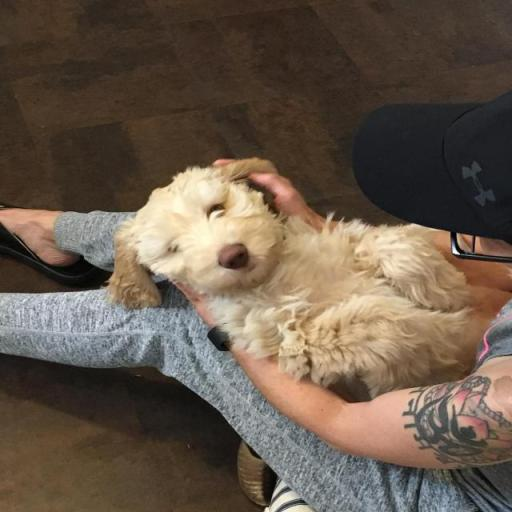Under Armour: (459, 158, 497, 208)
